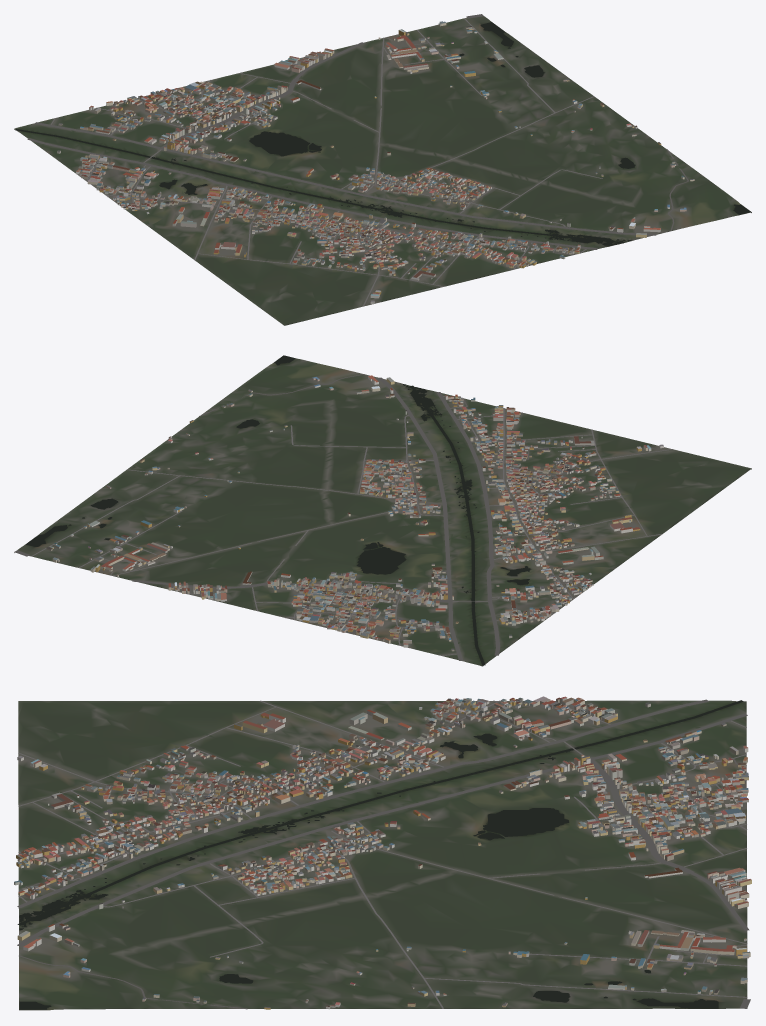
3 views of the same model, one above another, from view 1: azimuth 30°, elevation 25°; view 2: azimuth 150°, elevation 25°; view 3: azimuth 270°, elevation 25° (orthographic). The views are drawn at different scales.
Visible parts, largest first — view 1: ground, buildings, roads, water; view 2: ground, buildings, roads, water; view 3: ground, buildings, roads, water.
Part boxes in pixels (left/top/right/bottom): ground: left=14, top=16, right=751, bottom=325; buildings: left=57, top=21, right=694, bottom=304; roads: left=27, top=14, right=688, bottom=306; water: left=15, top=22, right=750, bottom=246; ground: left=14, top=356, right=751, bottom=666; buildings: left=46, top=375, right=663, bottom=651; roads: left=14, top=374, right=672, bottom=660; water: left=26, top=355, right=531, bottom=665; ground: left=18, top=700, right=747, bottom=1010; buildings: left=14, top=696, right=751, bottom=1009; roads: left=17, top=699, right=750, bottom=1009; water: left=17, top=700, right=743, bottom=1009.
Size of the model in its own units: 1411 by 25.21 by 1420.
